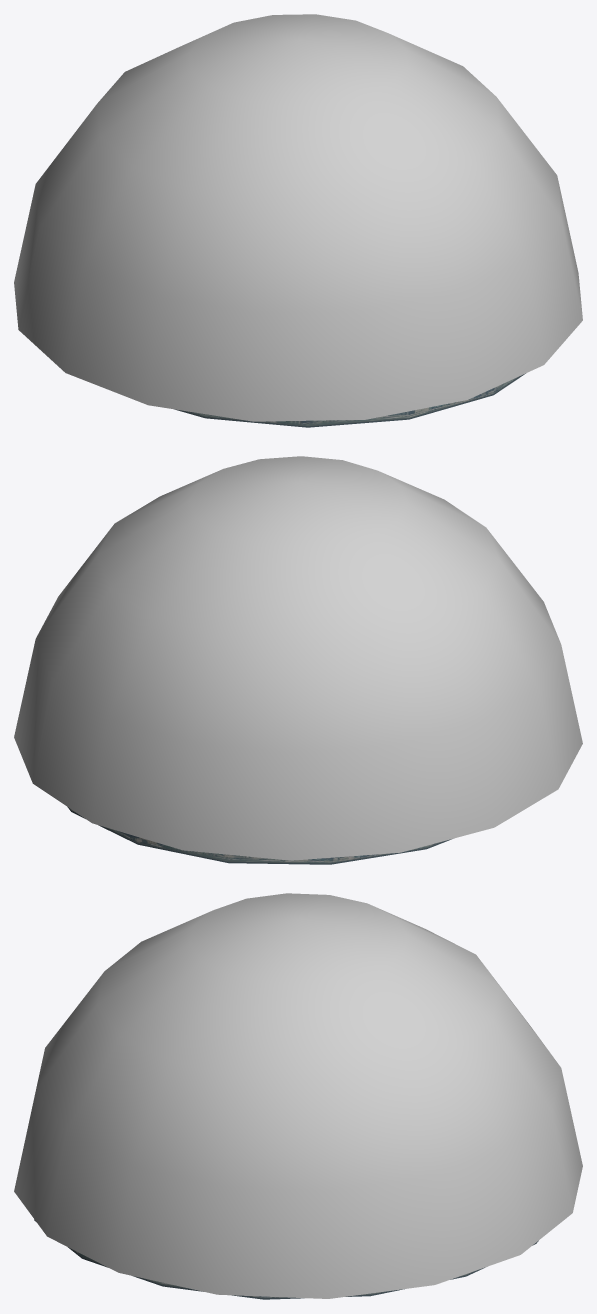
File: skybox.FBX
3 views of the same model, one above another, from view 1: azimuth 30°, elevation 25°; view 2: azimuth 150°, elevation 25°; view 3: azimuth 270°, elevation 25° (orthographic).
Parts seen in each view (by area): view 1: Sphere03, objSkyBox_02; view 2: Sphere03, objSkyBox_02; view 3: Sphere03, objSkyBox_02.
Part boxes in pixels (x1=…): Sphere03: x1=14, y1=14, x2=582, y2=421; objSkyBox_02: x1=174, y1=373, x2=525, y2=427; Sphere03: x1=14, y1=456, x2=582, y2=860; objSkyBox_02: x1=67, y1=807, x2=451, y2=864; Sphere03: x1=14, y1=893, x2=582, y2=1298; objSkyBox_02: x1=34, y1=1219, x2=538, y2=1299.
Size of the model in its own units: 4065 by 2136 by 4065.
